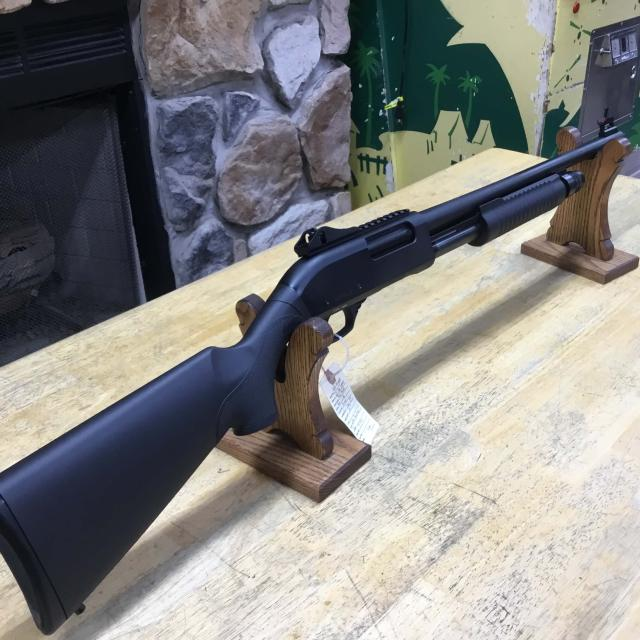ShotGun: (0, 134, 625, 637)
